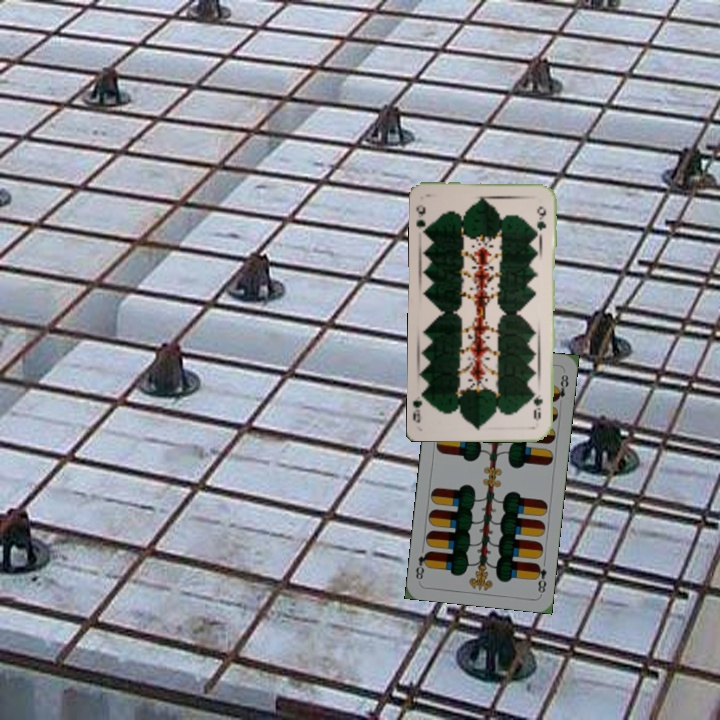E8: (531, 559, 549, 595)
G9: (412, 200, 431, 236), (530, 389, 545, 423)
